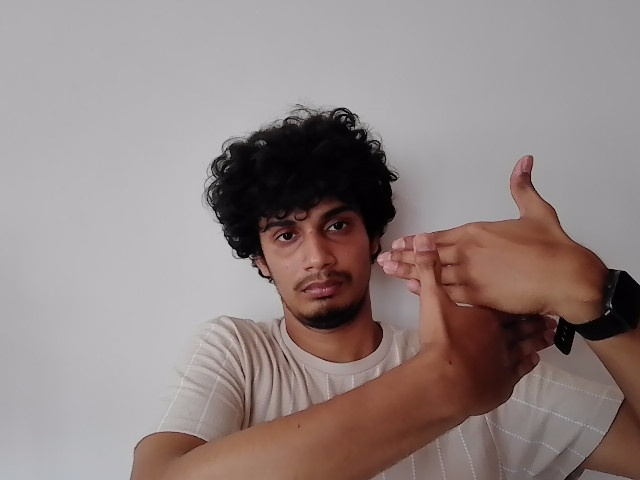work: (376, 154, 573, 396)
